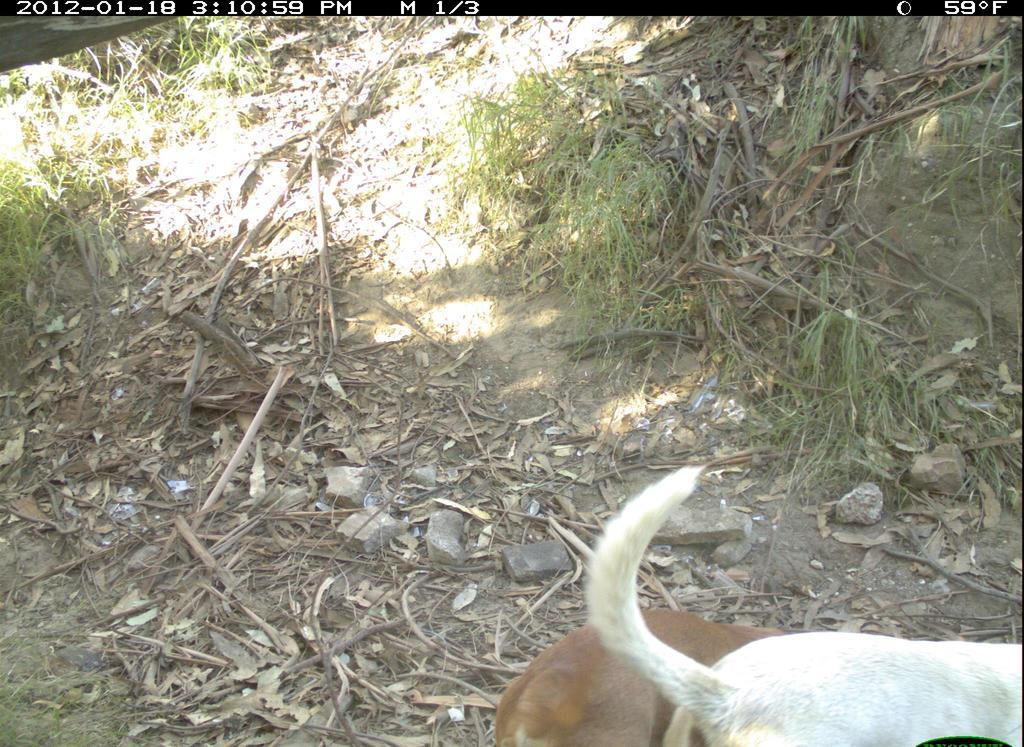dog: (580, 463, 1022, 747)
